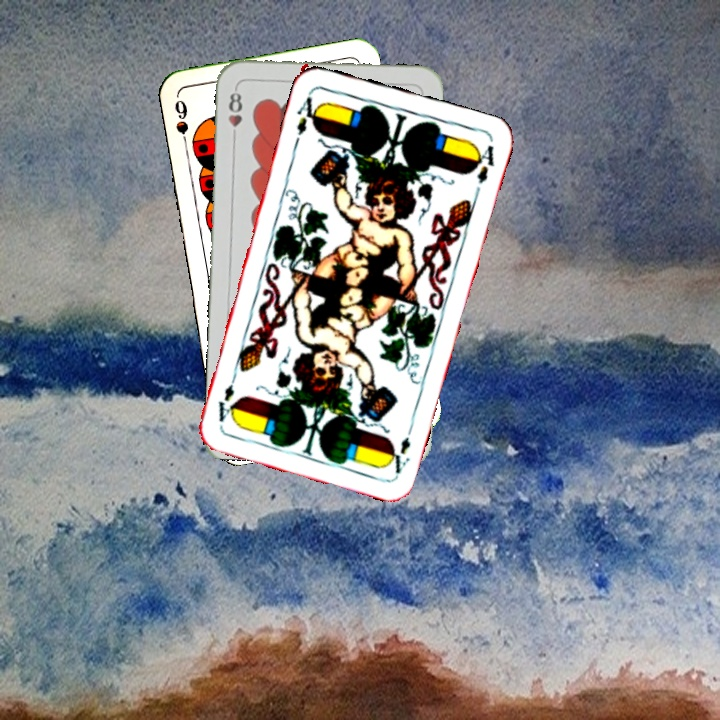EA: (383, 420, 417, 477), (292, 88, 323, 138)
H8: (224, 84, 245, 143)
S9: (170, 95, 191, 153)
